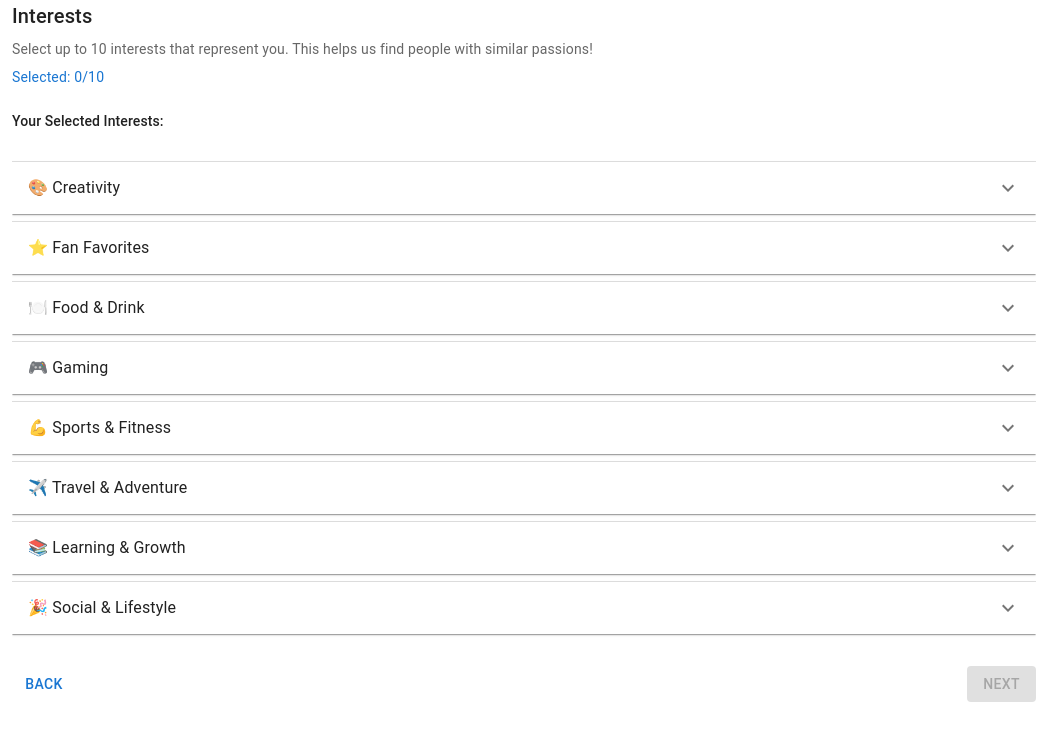
InterestsStep Validation › UI Elements › should update selection counter
This screenshot has width=1048, height=746.
Expected: the text "Selected: 0/10" is shown, [12,69,104,85]
Expand first accordion and select an interest
Click the button "🎨 Creativity" at (74, 187), box [28,176,1020,200]
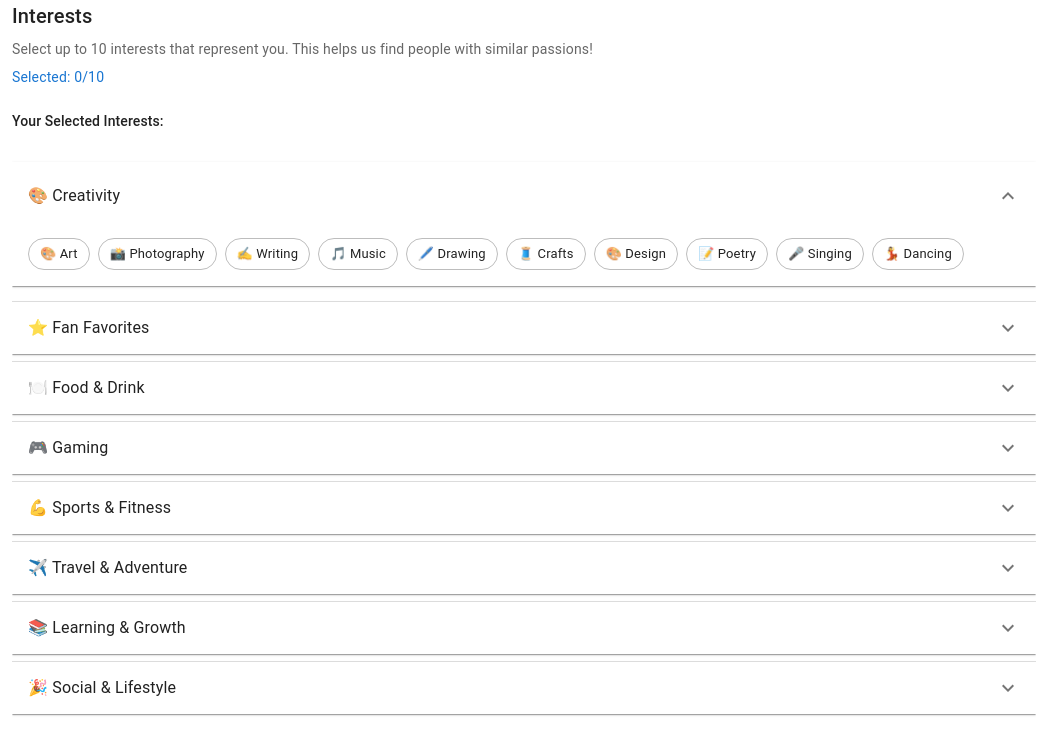
Click the button "🎨 Art" at (59, 254), box [28,238,90,270]
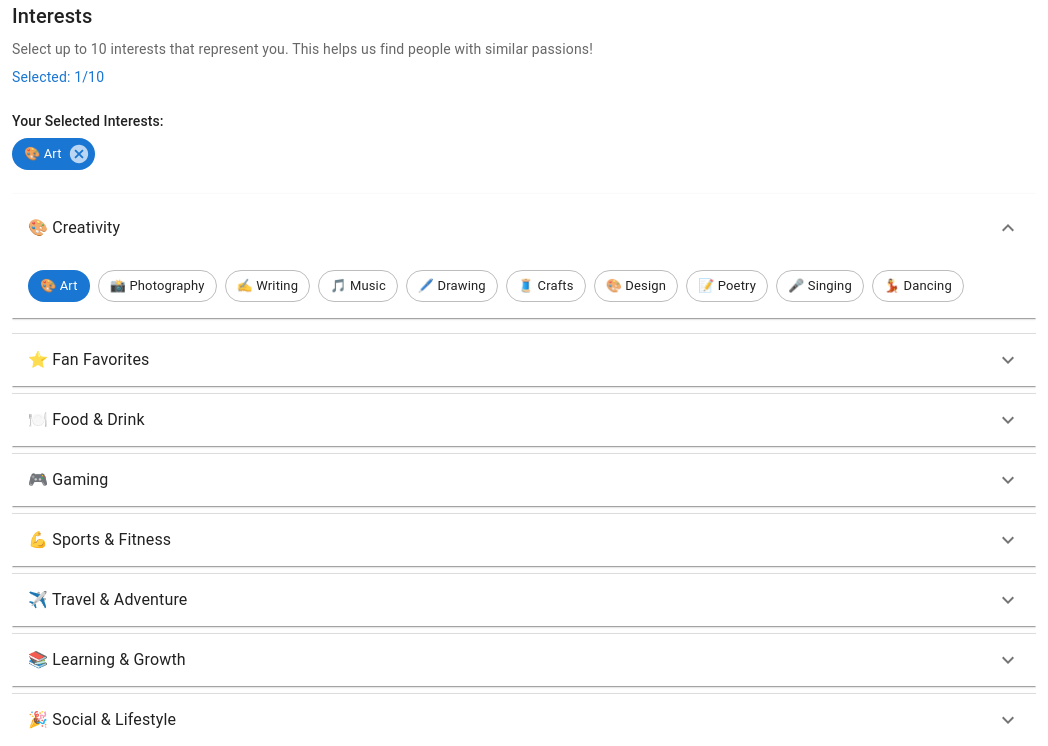
Expected: the text "Selected: 1/10" is shown, [12,69,104,85]
